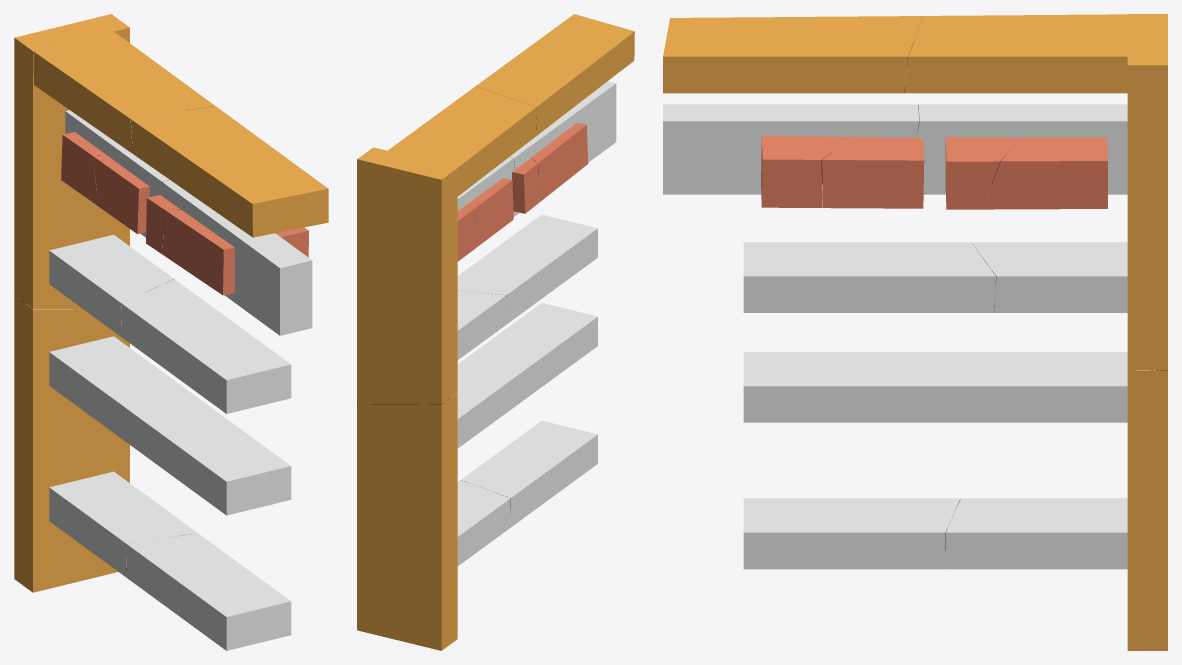
The model's file is Shelf_DEST.fbx.
The picture shows the model from 3 angles, left to right: view 1: azimuth 30°, elevation 25°; view 2: azimuth 150°, elevation 25°; view 3: azimuth 270°, elevation 25°; orthographic projection. The views are drawn at different scales.
Parts seen in each view (by area): view 1: model:mesh1606139564.006_cell, model:mesh1606139564.006_cell.001, model:mesh1606139564_cell_cell.001, model:mesh1606139564.005_cell.001, model:mesh1606139564.001_cell, model:mesh1606139564_cell_cell, model:mesh1606139564.004_cell.001_cell.001, model:mesh1606139564.004, model:mesh1606139564.007_cell.001, model:mesh1606139564.001_cell.001, model:mesh1606139564.005_cell, model:mesh1606139564.002_cell.001 (+5 smaller); view 2: model:mesh1606139564.006_cell.001, model:mesh1606139564.006_cell, model:mesh1606139564_cell_cell.001, model:mesh1606139564_cell_cell, model:mesh1606139564.005_cell.001, model:mesh1606139564.001_cell, model:mesh1606139564.004, model:mesh1606139564.004_cell.001_cell.001, model:mesh1606139564.007_cell.001, model:mesh1606139564.001_cell.001, model:mesh1606139564.002_cell.001, model:mesh1606139564.004_cell.001_cell (+5 smaller); view 3: model:mesh1606139564_cell_cell.001, model:mesh1606139564.004, model:mesh1606139564.005_cell.001, model:mesh1606139564_cell_cell, model:mesh1606139564.001_cell, model:mesh1606139564.006_cell.001, model:mesh1606139564.007_cell.001, model:mesh1606139564.001_cell.001, model:mesh1606139564.006_cell, model:mesh1606139564.005_cell, model:mesh1606139564.007_cell, model:mesh1606139564.003_cell (+5 smaller).
Boxes of the visible parts, x1,y1,x2,y2 form: model:mesh1606139564.006_cell: (14,295,129,592); model:mesh1606139564.006_cell.001: (14,14,129,309); model:mesh1606139564_cell_cell.001: (130,106,328,237); model:mesh1606139564.005_cell.001: (121,279,291,413); model:mesh1606139564.001_cell: (126,533,291,650); model:mesh1606139564_cell_cell: (20,31,214,153); model:mesh1606139564.004_cell.001_cell.001: (129,411,291,515); model:mesh1606139564.004: (49,336,291,510); model:mesh1606139564.007_cell.001: (162,180,312,335); model:mesh1606139564.001_cell.001: (49,471,197,577); model:mesh1606139564.005_cell: (49,234,174,337); model:mesh1606139564.002_cell.001: (162,209,308,295); model:mesh1606139564.006_cell.001: (357,147,457,404); model:mesh1606139564.006_cell: (357,392,457,650); model:mesh1606139564_cell_cell.001: (476,14,634,135); model:mesh1606139564_cell_cell: (387,86,536,196); model:mesh1606139564.005_cell.001: (457,214,597,323); model:mesh1606139564.001_cell: (461,420,597,526); model:mesh1606139564.004: (457,303,597,446); model:mesh1606139564.004_cell.001_cell.001: (511,303,597,406); model:mesh1606139564.007_cell.001: (509,81,616,169); model:mesh1606139564.001_cell.001: (457,480,510,565); model:mesh1606139564.002_cell.001: (531,122,588,202); model:mesh1606139564.004_cell.001_cell: (457,363,514,448); model:mesh1606139564_cell_cell.001: (663,16,924,93); model:mesh1606139564.004: (743,352,1127,422); model:mesh1606139564.005_cell.001: (743,242,995,312); model:mesh1606139564_cell_cell: (904,14,1127,93); model:mesh1606139564.001_cell: (743,498,960,569); model:mesh1606139564.006_cell.001: (1127,14,1167,370); model:mesh1606139564.007_cell.001: (663,104,919,194); model:mesh1606139564.001_cell.001: (945,498,1127,569); model:mesh1606139564.006_cell: (1127,370,1167,650); model:mesh1606139564.005_cell: (971,242,1127,312); model:mesh1606139564.007_cell: (916,104,1127,194); model:mesh1606139564.003_cell: (983,137,1107,209).
Bounding box in the file's own units: 0.846 × 4.06 × 3.17.
